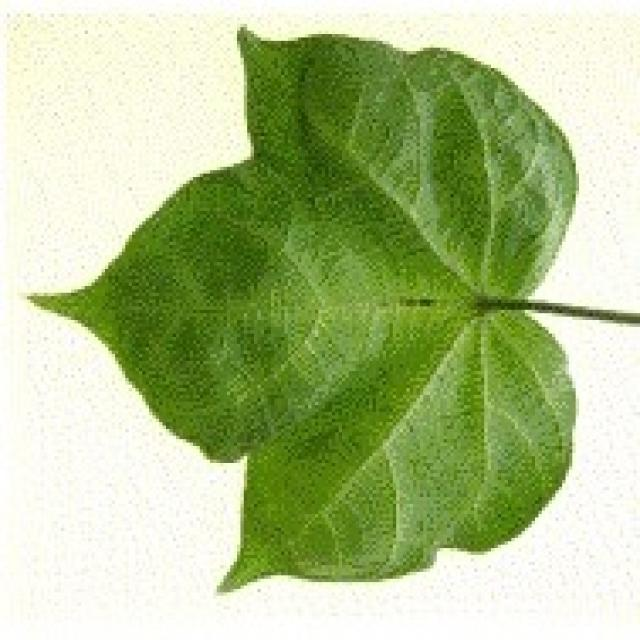Leaf Curl Virus: (222, 167, 468, 471)
